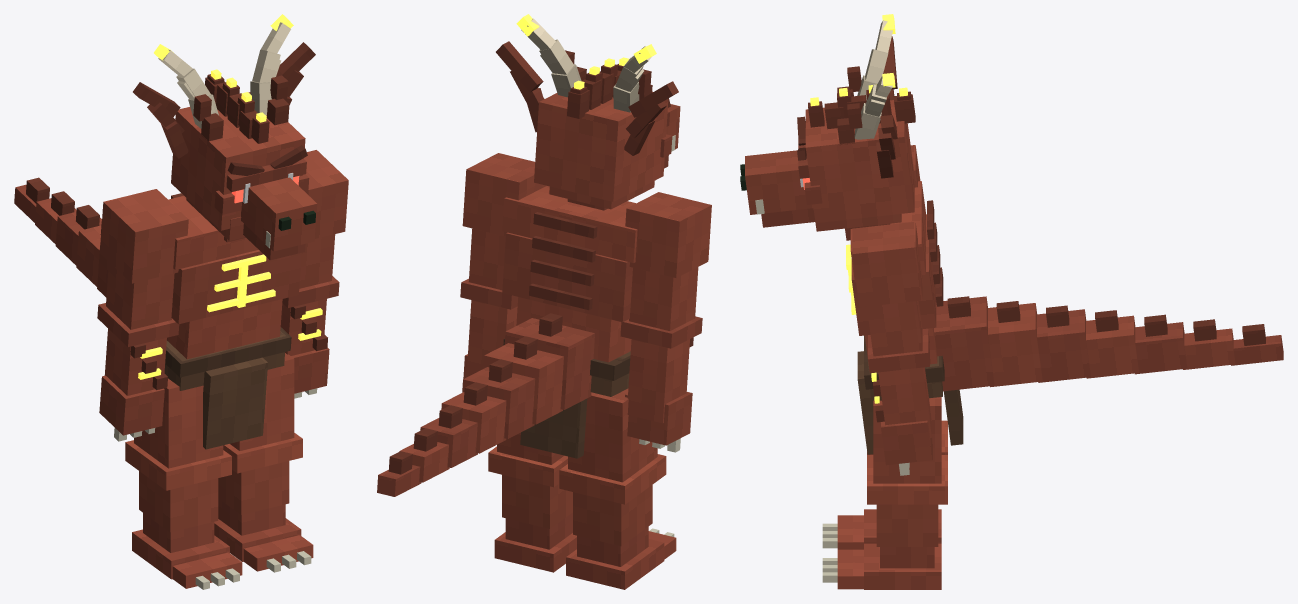
Rendered from lizard_base_v3_evo2.glb.
The picture shows the model from 3 angles, left to right: view 1: azimuth 30°, elevation 25°; view 2: azimuth 150°, elevation 25°; view 3: azimuth 270°, elevation 25°; orthographic projection.
Parts seen in each view (by area): view 1: Torso, Head, ArmR, LegR, LegL, ArmL, Root; view 2: Torso, Head, ArmR, LegR, ArmL, LegL; view 3: Torso, Head, ArmL, LegL, LegR, Root.
Boxes of the visible parts, x1,y1,x2,y2 form: Torso: (14, 177, 301, 449); Head: (133, 14, 317, 260); ArmR: (97, 189, 188, 441); LegR: (125, 378, 242, 588); LegL: (214, 353, 313, 571); ArmL: (280, 150, 348, 398); Root: (195, 551, 311, 589); Torso: (377, 186, 637, 496); Head: (496, 14, 680, 210); ArmR: (620, 192, 711, 452); LegR: (559, 388, 676, 589); ArmL: (460, 153, 546, 378); LegL: (488, 432, 576, 572); Torso: (846, 181, 1283, 454); Head: (740, 14, 915, 240); ArmL: (852, 221, 932, 475); LegL: (837, 397, 947, 589); LegR: (837, 420, 947, 549); Root: (822, 523, 837, 582).
Size of the model in its own units: 0.78 by 1.83 by 1.75.
26 materials, 26 textured.
